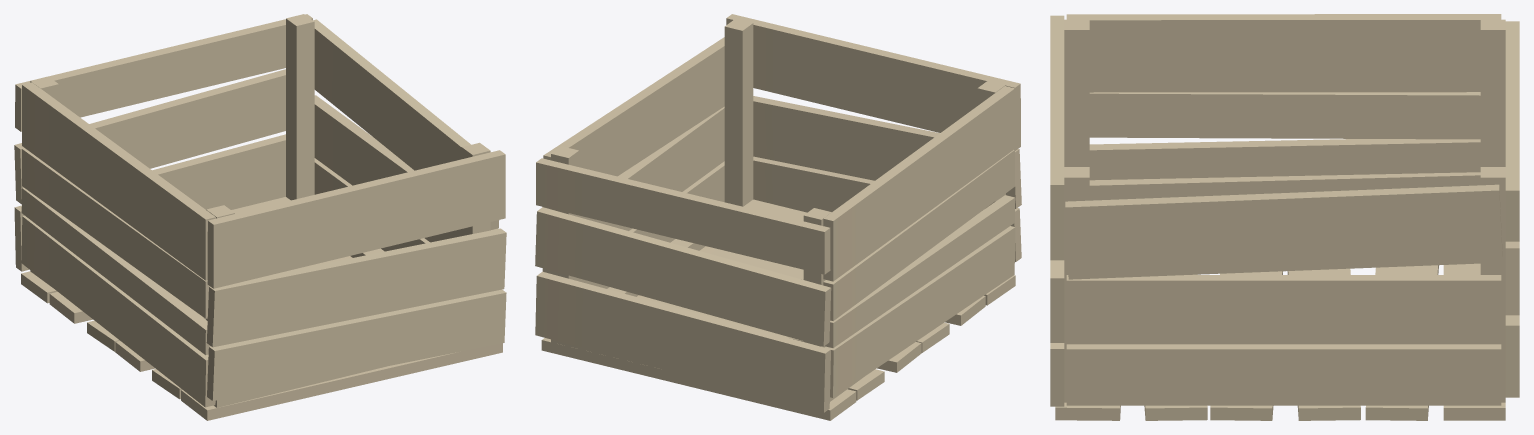
The model's file is WoodBox.fbx.
The picture shows the model from 3 angles, left to right: view 1: azimuth 30°, elevation 25°; view 2: azimuth 150°, elevation 25°; view 3: azimuth 270°, elevation 25°; orthographic projection. The views are drawn at different scales.
Visible parts, largest first — view 1: WoodBox; view 2: WoodBox; view 3: WoodBox.
Part boxes in pixels (bbox=[...]): WoodBox: bbox=[14, 14, 506, 420]; WoodBox: bbox=[535, 14, 1021, 420]; WoodBox: bbox=[1050, 14, 1519, 420].
Bounding box in the file's own units: 29.07 × 19.01 × 33.99.
